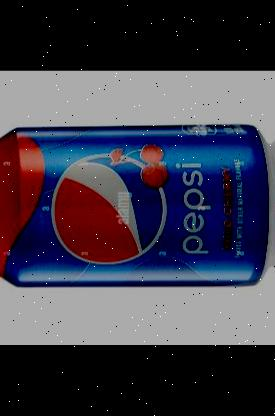Can: (0, 123, 275, 289)
